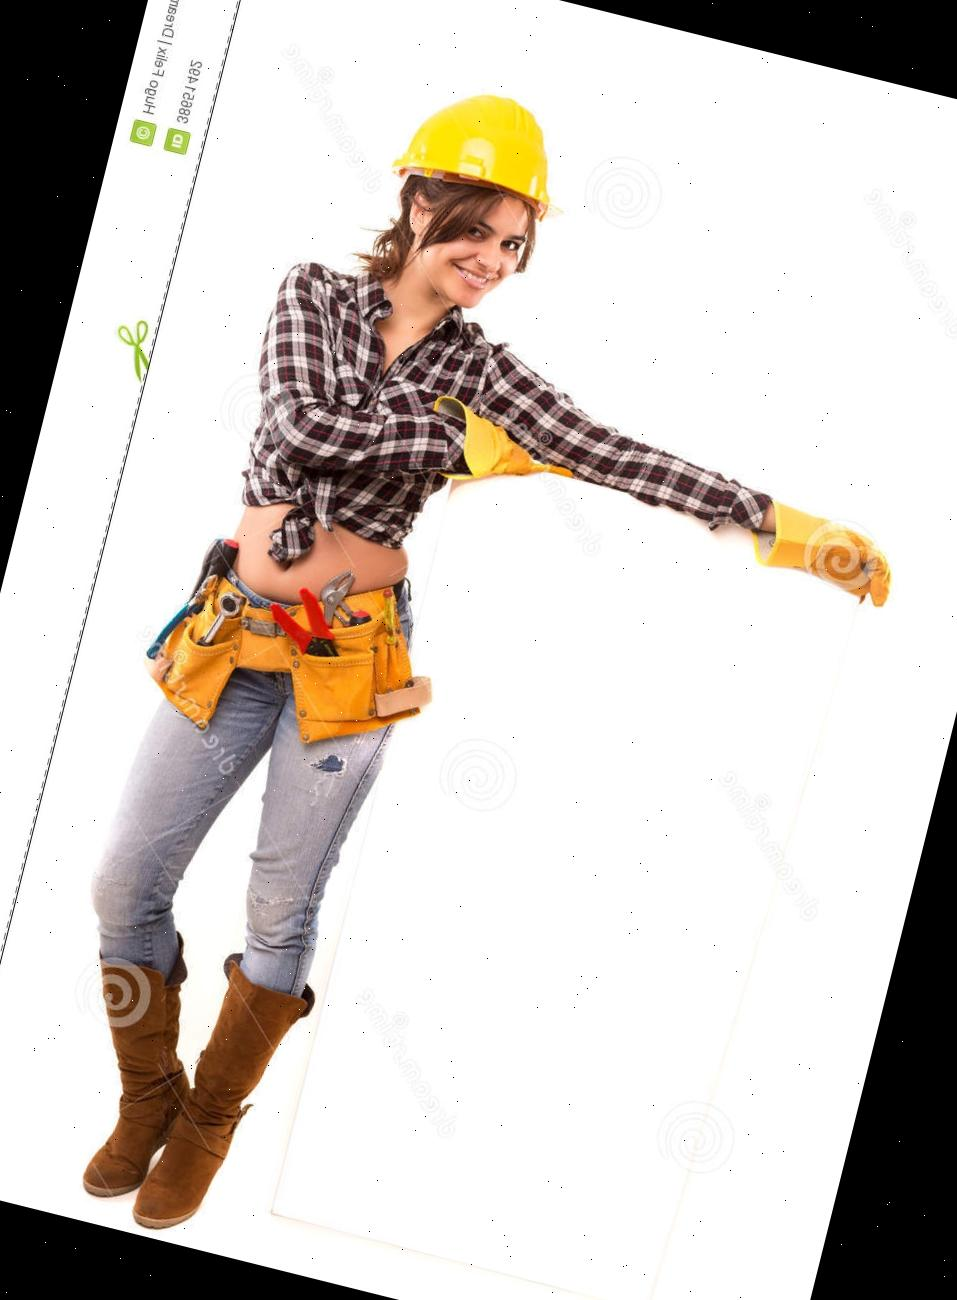helmet: (392, 74, 576, 221)
no_wear: (207, 264, 513, 628)
